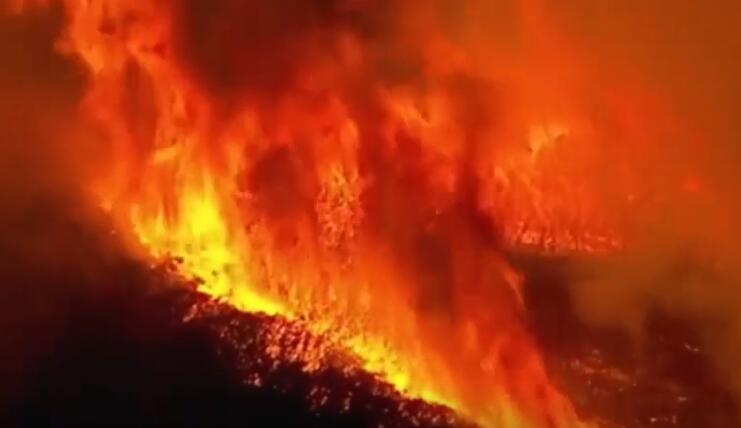fire: (51, 1, 596, 426)
